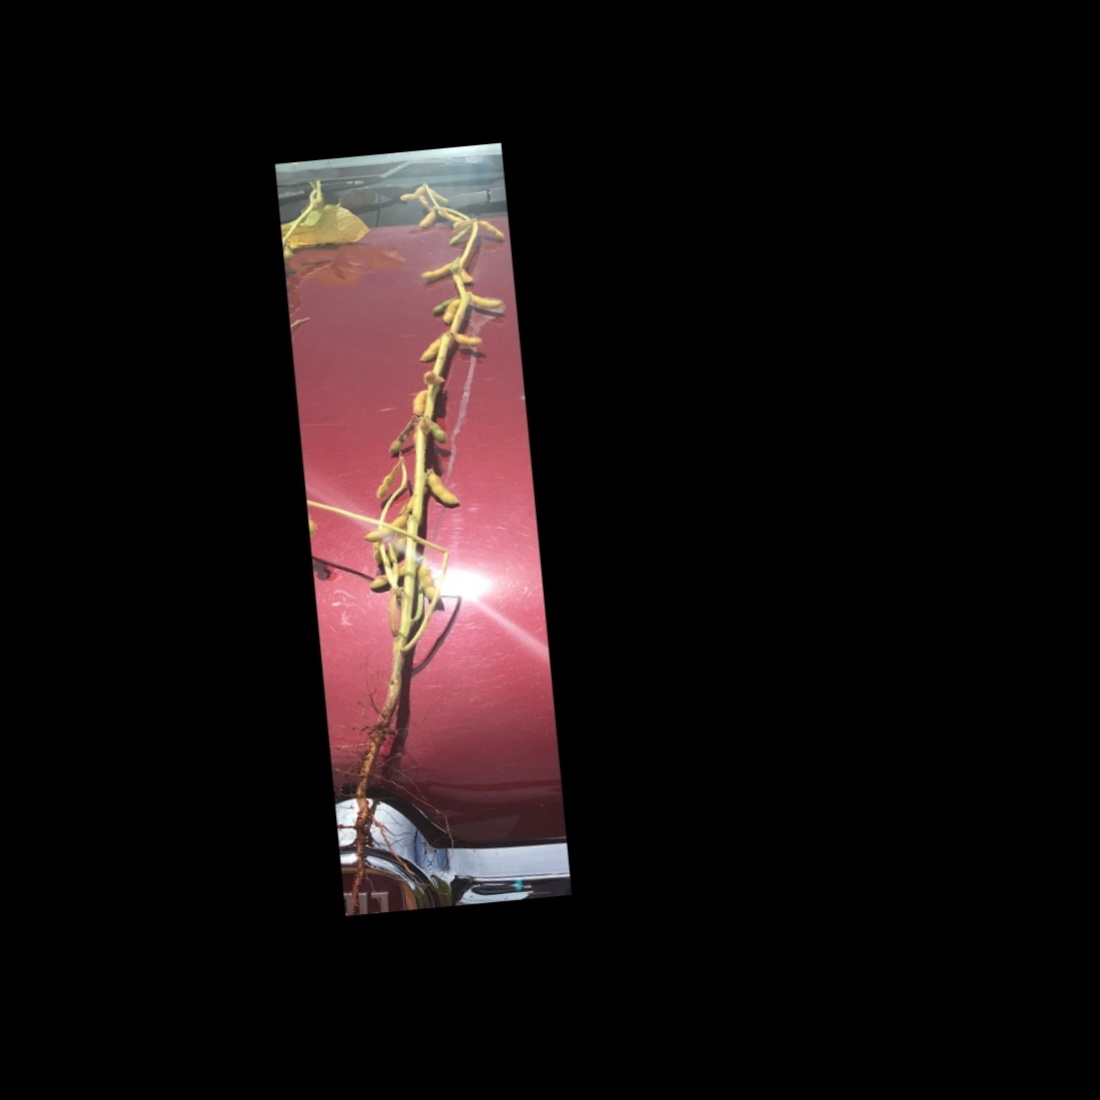pod: (424, 464, 463, 512), (361, 513, 407, 545), (368, 461, 403, 500), (416, 561, 442, 607), (477, 212, 508, 245), (412, 334, 442, 365), (468, 288, 504, 312), (452, 328, 489, 350), (416, 261, 454, 280), (394, 184, 428, 203), (443, 226, 471, 248), (415, 207, 440, 231), (428, 419, 449, 446)
soy: (279, 168, 556, 852)
